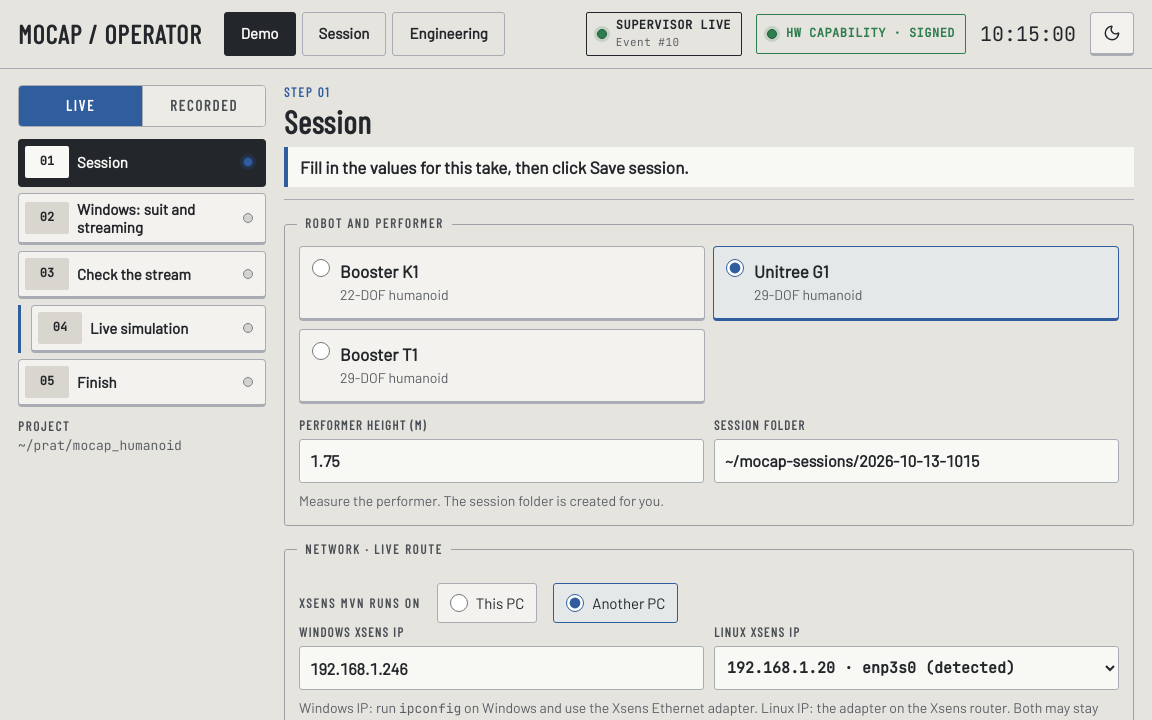
Test: Setup workspace availability › shows Setup first and opens it by default when available
Click the button "Session" at coordinates (344, 34), box 302,12 -> 386,56
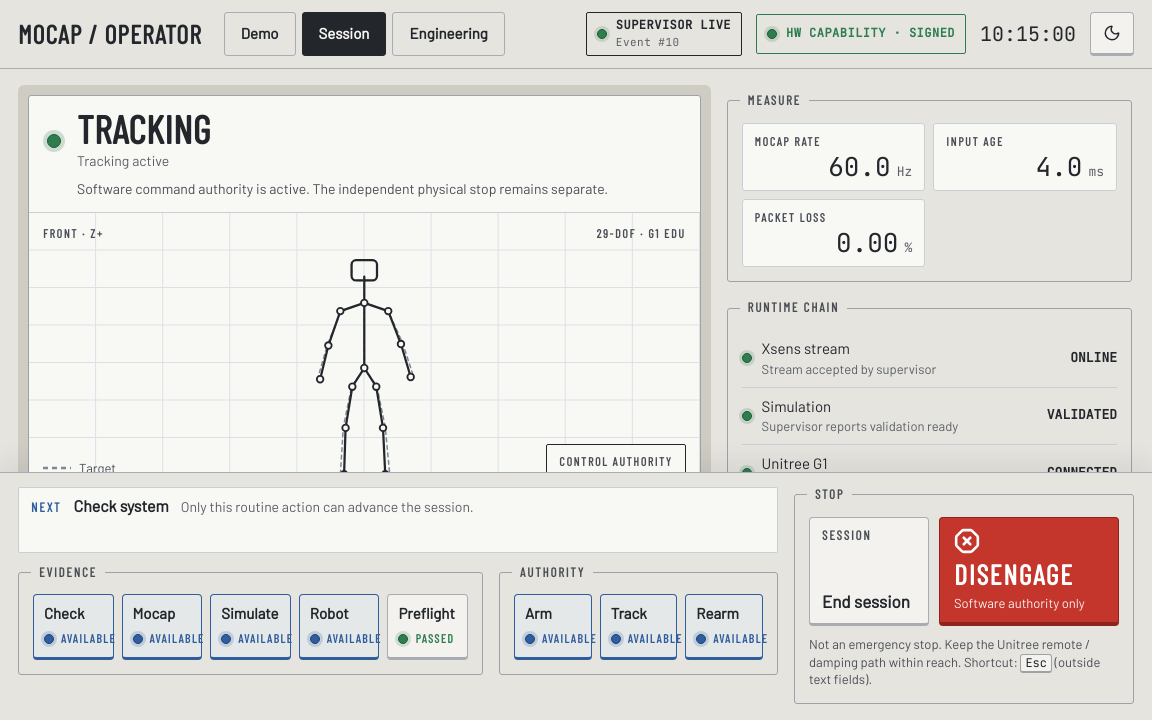
Expected: the footer named "Session actions" is shown, 0,472 -> 1151,719
